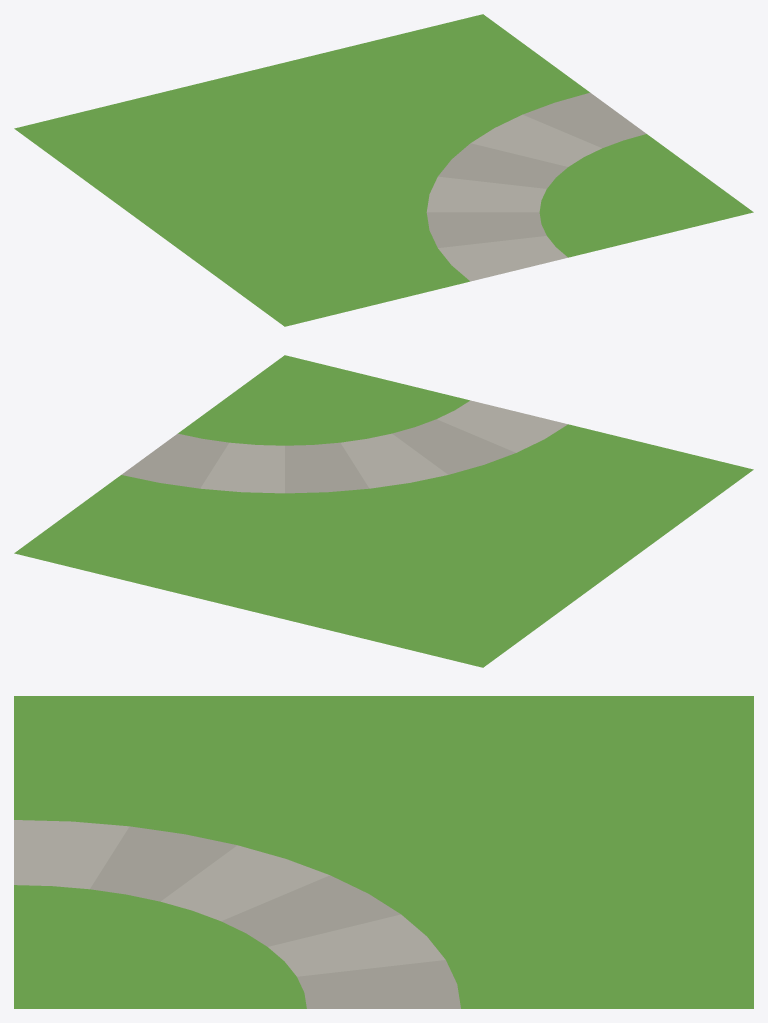
File: calcada-curva.glb
3 renders of one model, top to bottom at view 1: azimuth 30°, elevation 25°; view 2: azimuth 150°, elevation 25°; view 3: azimuth 270°, elevation 25°, orthographic. The views are drawn at different scales.
Parts seen in each view (by area): view 1: Grama, Calcada; view 2: Grama, Calcada; view 3: Grama, Calcada.
Boxes of the visible parts, x1,y1,x2,y2 form: Grama: (14,14,753,326); Calcada: (426,92,646,281); Grama: (14,355,753,667); Calcada: (121,400,567,493); Grama: (14,696,753,1008); Calcada: (14,820,460,1008).
Size of the model in its own units: 12 by 0 by 12.
